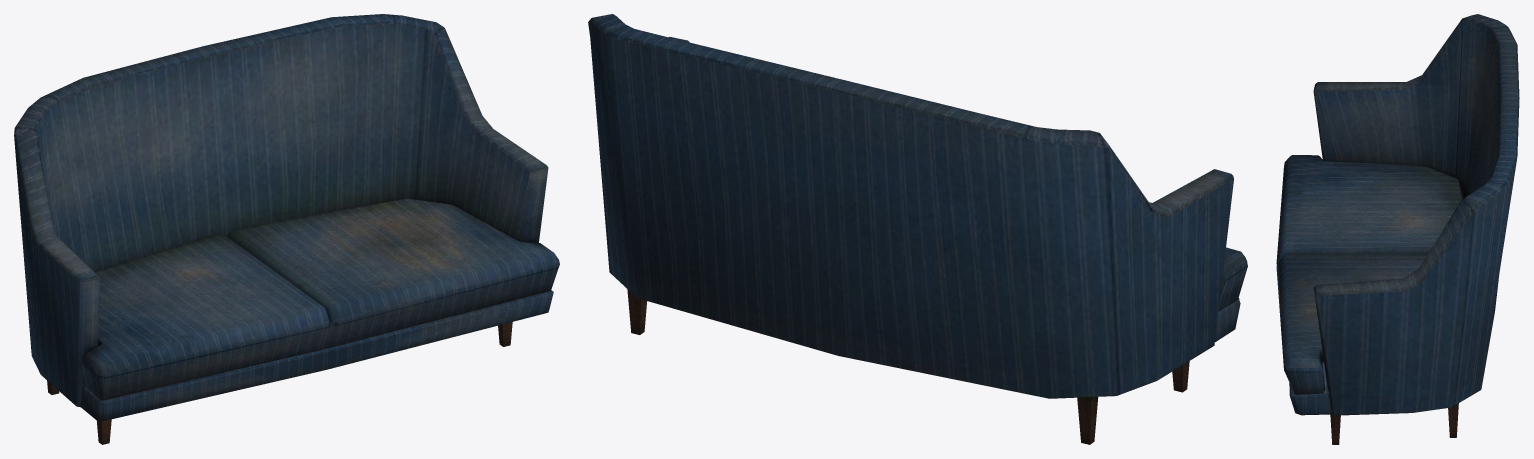
File: si-sofa.glb
The picture shows the model from 3 angles, left to right: view 1: azimuth 30°, elevation 25°; view 2: azimuth 150°, elevation 25°; view 3: azimuth 270°, elevation 25°; orthographic projection. The views are drawn at different scales.
Parts seen in each view (by area): view 1: si-sofa; view 2: si-sofa; view 3: si-sofa.
Part boxes in pixels (left/top/right/bottom): si-sofa: left=14, top=14, right=559, bottom=444; si-sofa: left=588, top=14, right=1247, bottom=444; si-sofa: left=1276, top=14, right=1519, bottom=444.
Size of the model in its own units: 1.45 by 0.8182 by 0.7046.
Materials: 1 (1 with a texture image).
